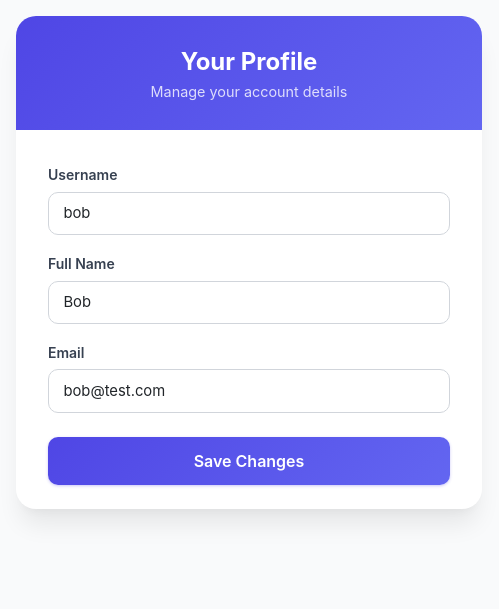
ProfilePage › shows success message after save
expect the field showing "bob" is shown: met, box left=48, top=192, right=450, bottom=235
Step 1. Click the button "Save Changes" → (249, 461), box left=48, top=437, right=450, bottom=485
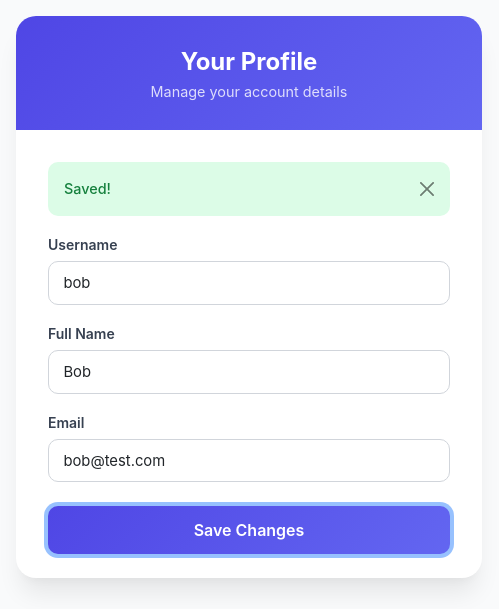
expect the text "Saved!" is shown: met, box left=48, top=162, right=450, bottom=216
